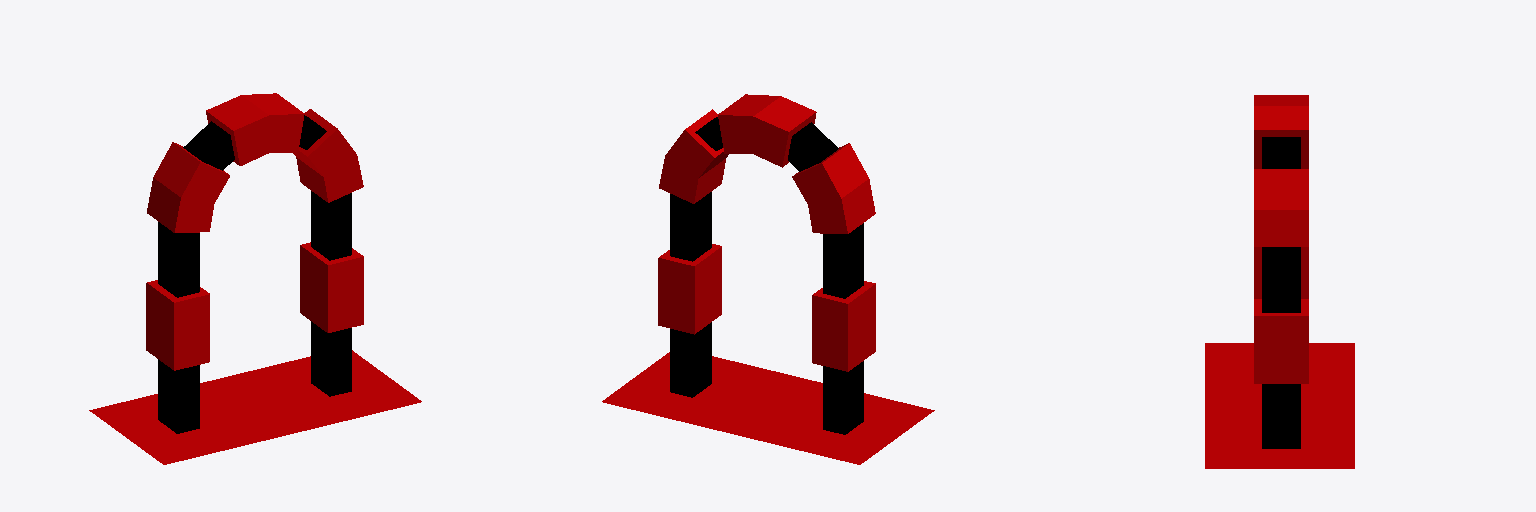
Rendered from portal1.obj.
The picture shows the model from 3 angles: view 1: azimuth 30°, elevation 25°; view 2: azimuth 150°, elevation 25°; view 3: azimuth 270°, elevation 25°; orthographic projection.
Parts seen in each view (by area): view 1: Plane.001_Plane.003, Plane_Plane.002; view 2: Plane.001_Plane.003, Plane_Plane.002; view 3: Plane.001_Plane.003, Plane_Plane.002.
Boxes of the visible parts, box(x1,y1,x2,y2) form: Plane.001_Plane.003: box(89, 93, 421, 464); Plane_Plane.002: box(158, 115, 351, 433); Plane.001_Plane.003: box(602, 94, 934, 464); Plane_Plane.002: box(670, 117, 863, 434); Plane.001_Plane.003: box(1205, 95, 1354, 468); Plane_Plane.002: box(1262, 137, 1300, 448).
Size of the model in its own units: 3.99 by 4.42 by 2.